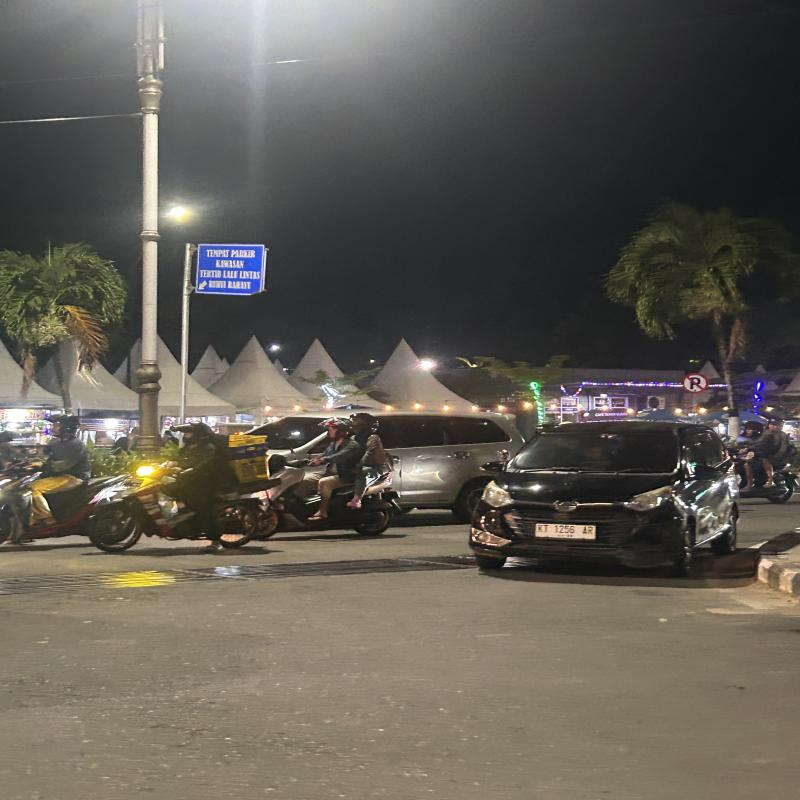license plate on a car: (535, 520, 596, 540)
